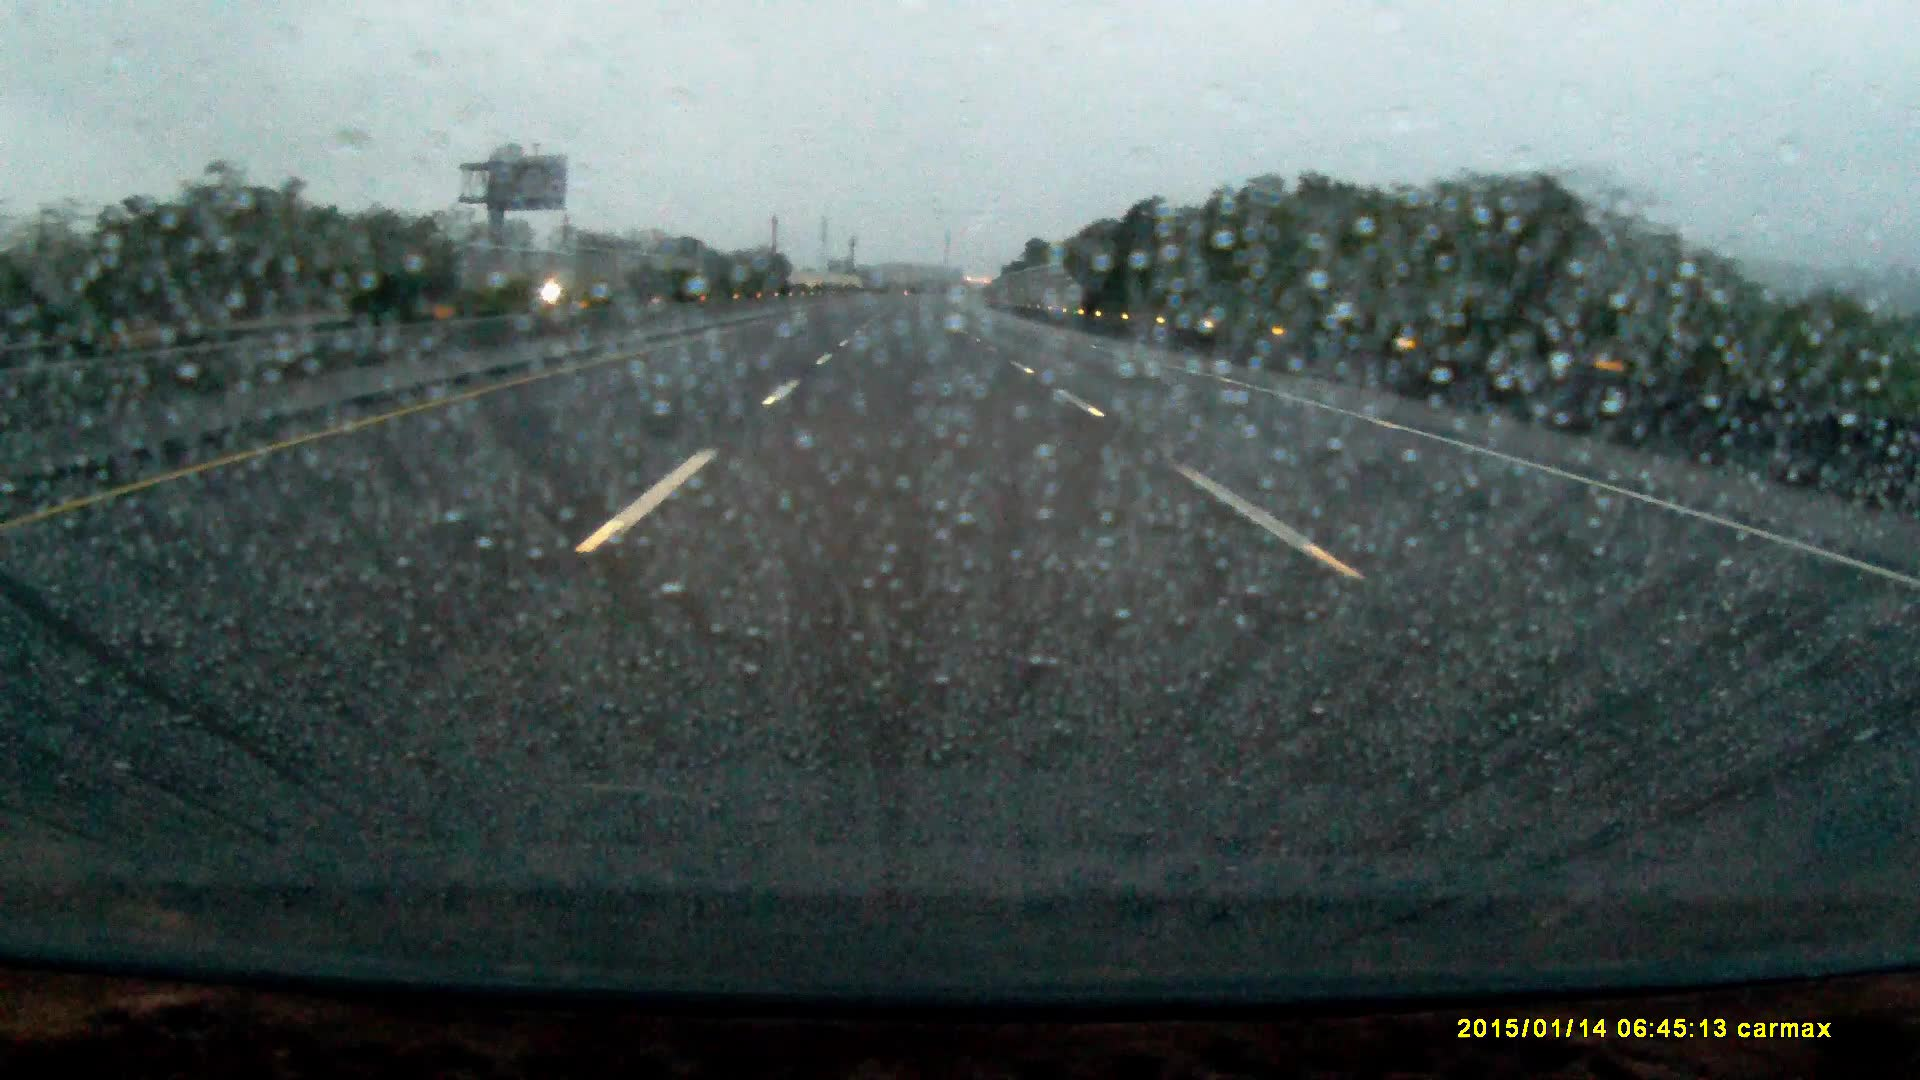vehicle: (529, 269, 605, 307)
